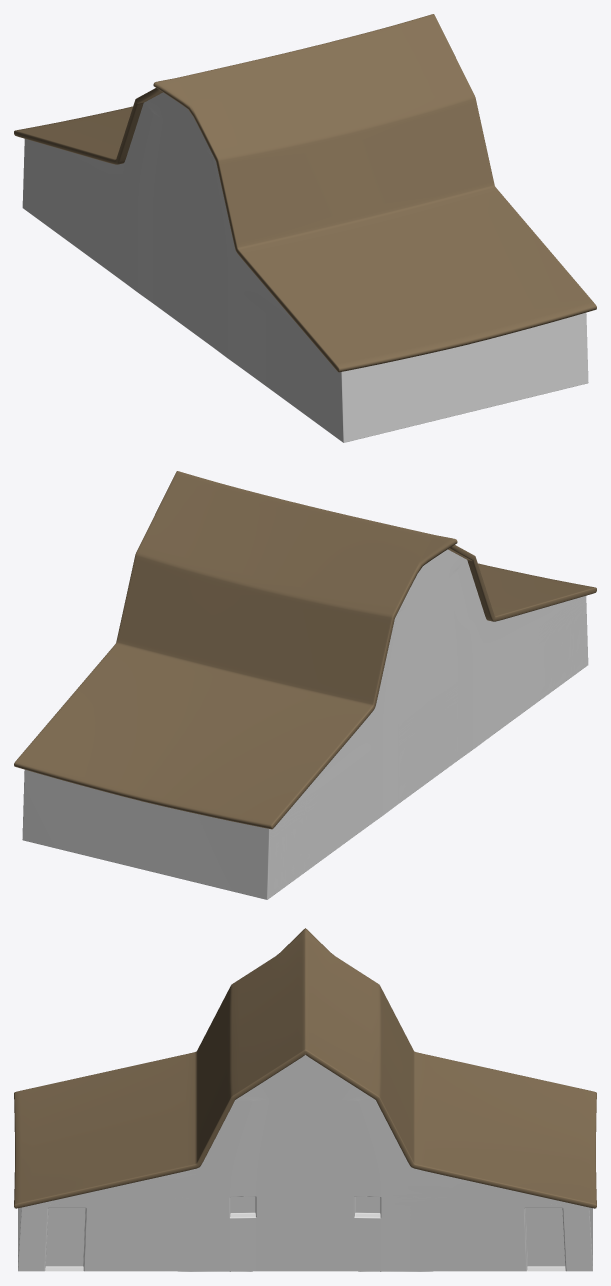
The model's file is Barn.fbx.
3 renders of one model, top to bottom at view 1: azimuth 30°, elevation 25°; view 2: azimuth 150°, elevation 25°; view 3: azimuth 270°, elevation 25°, orthographic. The views are drawn at different scales.
Parts seen in each view (by area): view 1: Plane, Cube; view 2: Plane, Cube; view 3: Plane, Cube.
Part boxes in pixels (x1=…): Plane: x1=14, y1=14, x2=596, y2=372; Cube: x1=22, y1=92, x2=588, y2=442; Plane: x1=14, y1=471, x2=596, y2=829; Cube: x1=22, y1=549, x2=588, y2=899; Plane: x1=14, y1=928, x2=596, y2=1208; Cube: x1=18, y1=1055, x2=592, y2=1271.
Size of the model in its own units: 820 by 698 by 1643.
